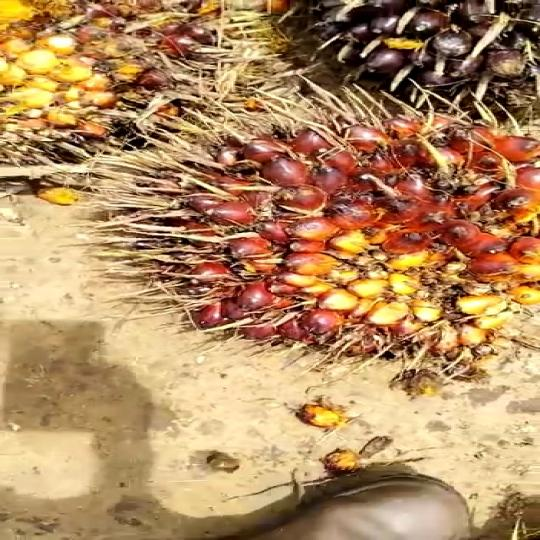masak: (145, 97, 540, 376)
